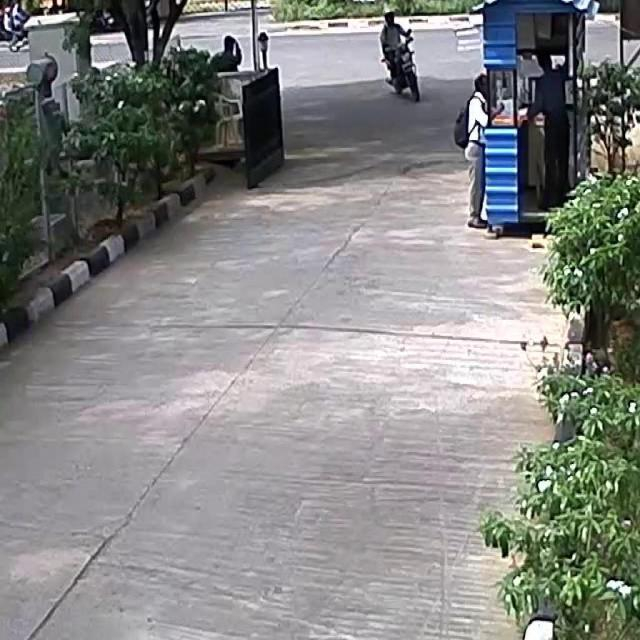with helmet: (382, 6, 394, 27)
